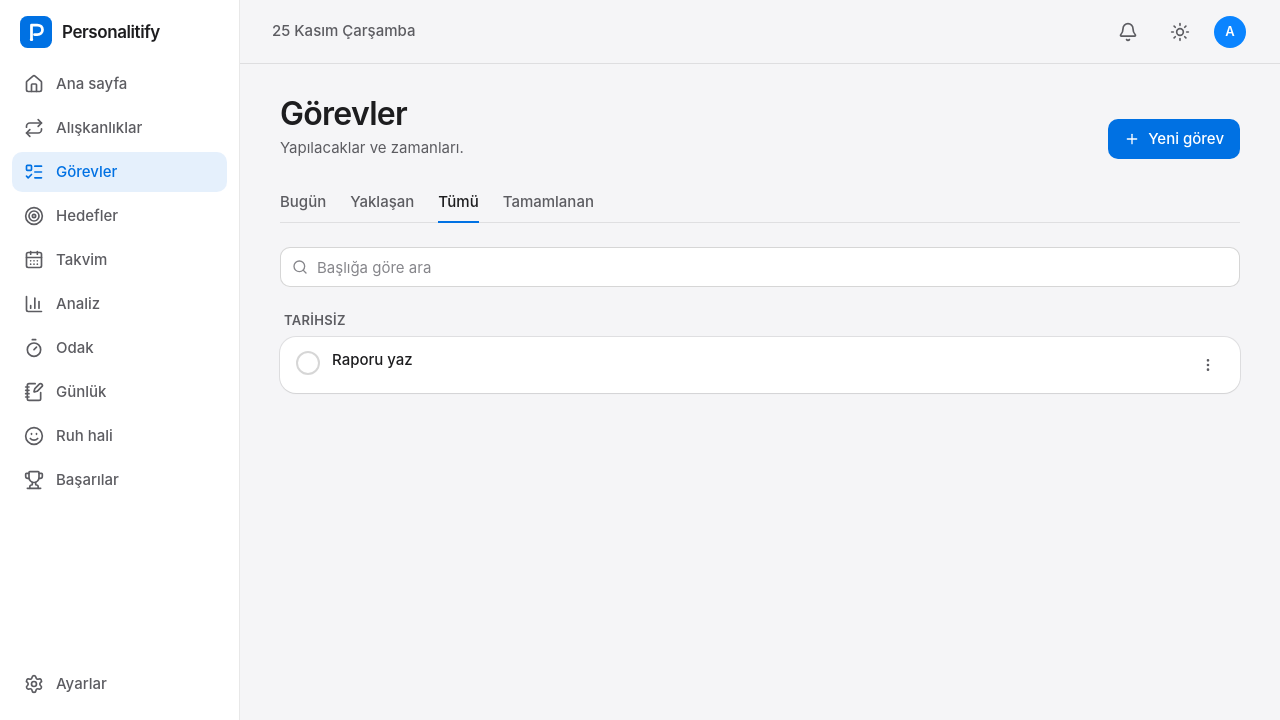
tasks › searches the open tasks
expect the heading "Tarihsiz" is shown: met, box [284,312,346,328]
In the search field named "Görevlerde ara": (760, 267) [280,247,1240,287], type "xyz"
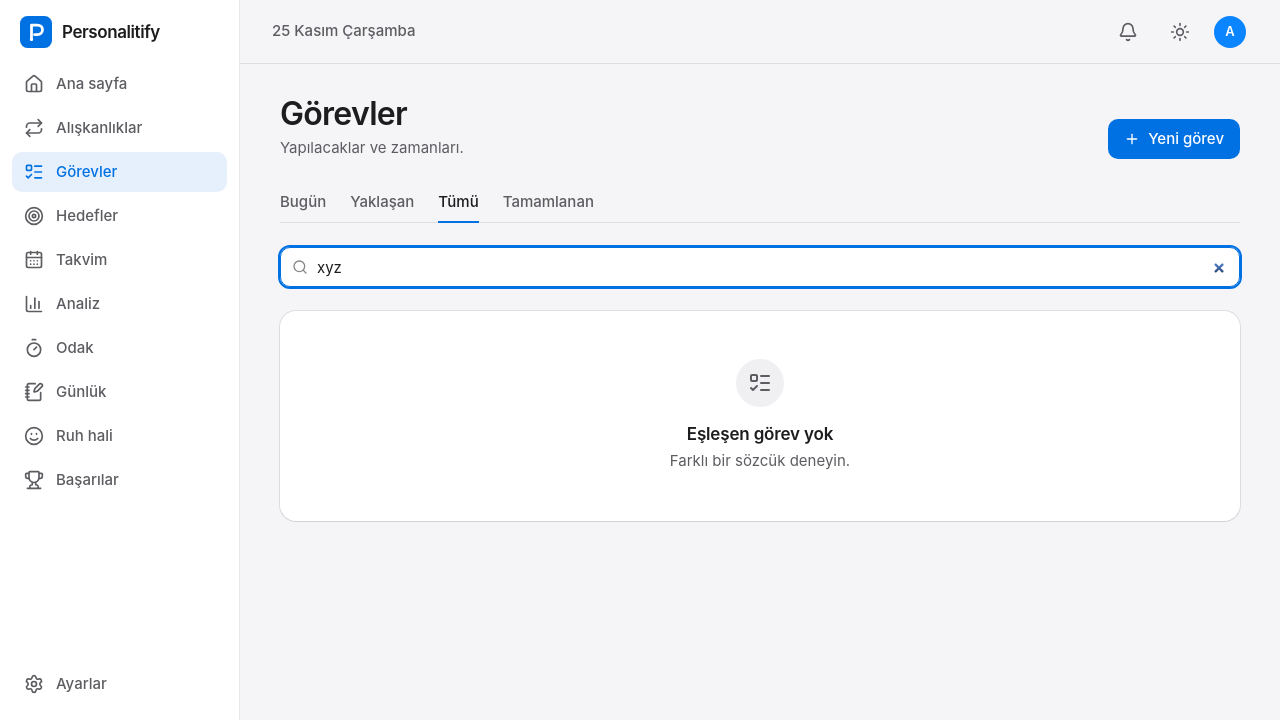
expect the heading "Eşleşen görev yok" is shown: met, box [687,423,833,446]
